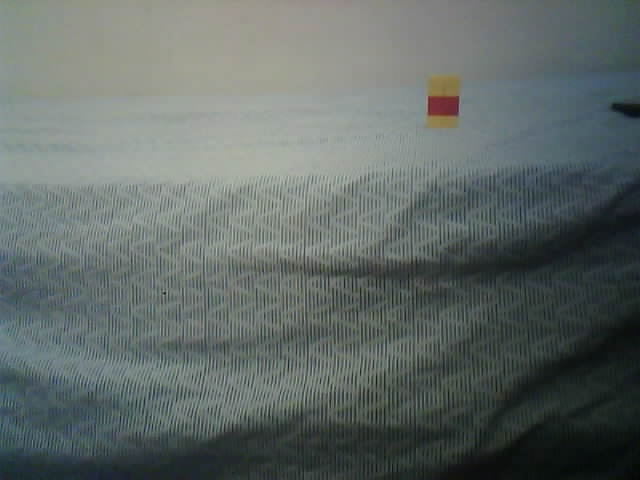lego: (425, 74, 461, 130)
